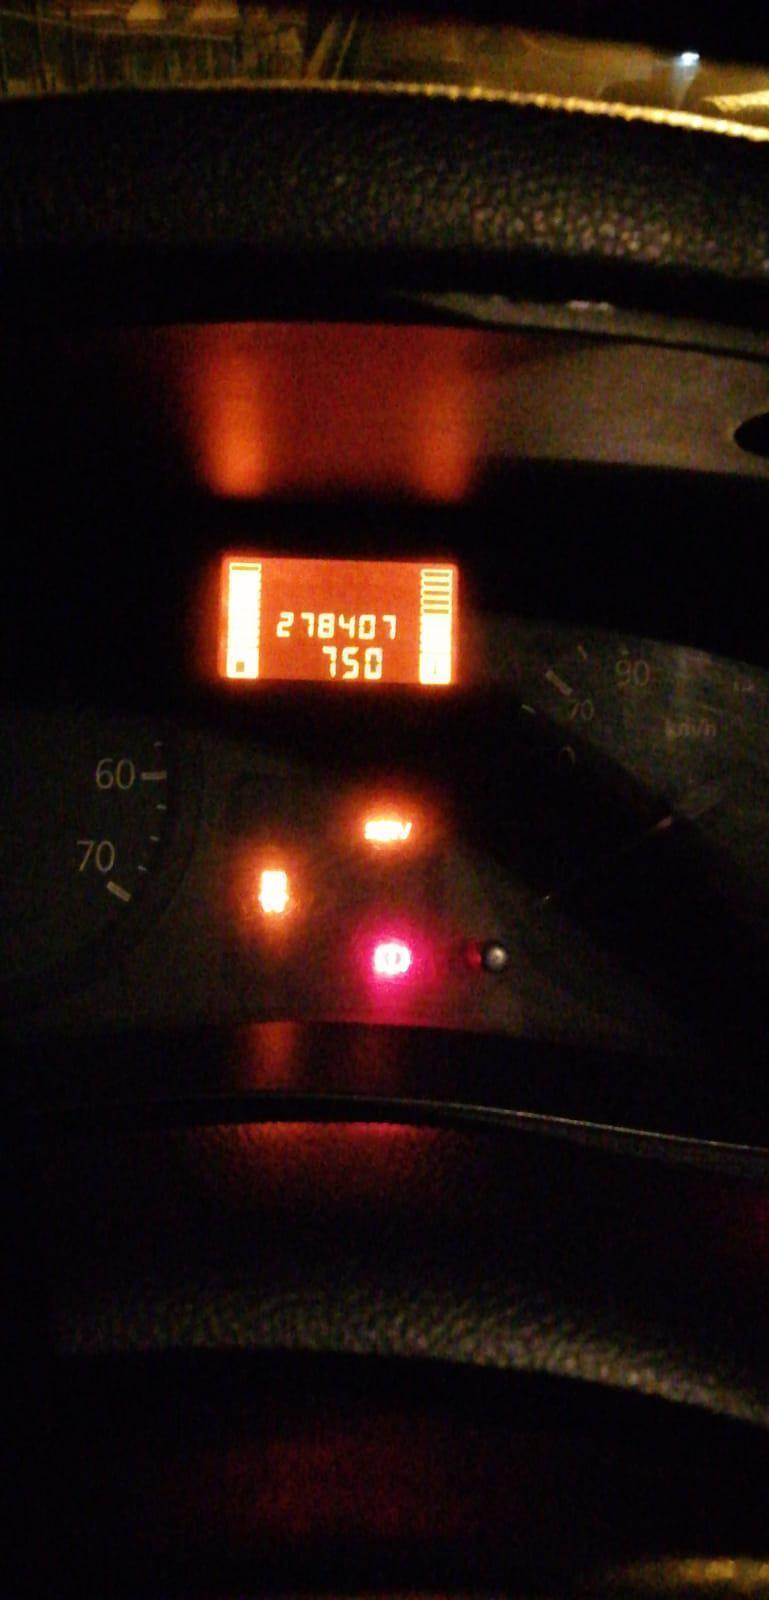0: (363, 646, 385, 680), (358, 613, 376, 640)
2: (275, 610, 295, 638)
4: (337, 613, 356, 639)
5: (340, 645, 360, 679)
7: (321, 644, 337, 678), (299, 611, 315, 638), (381, 613, 397, 641)
8: (317, 612, 335, 639)
odometer: (214, 552, 460, 689)
